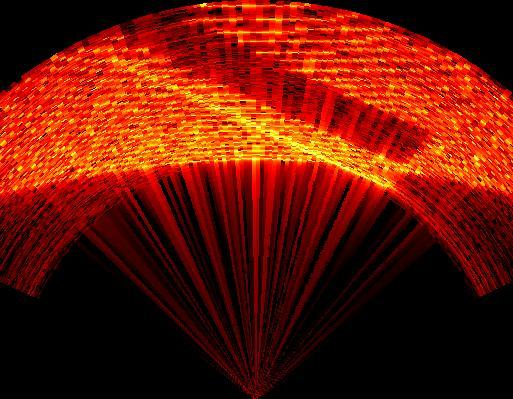pipe: (101, 13, 431, 189)
